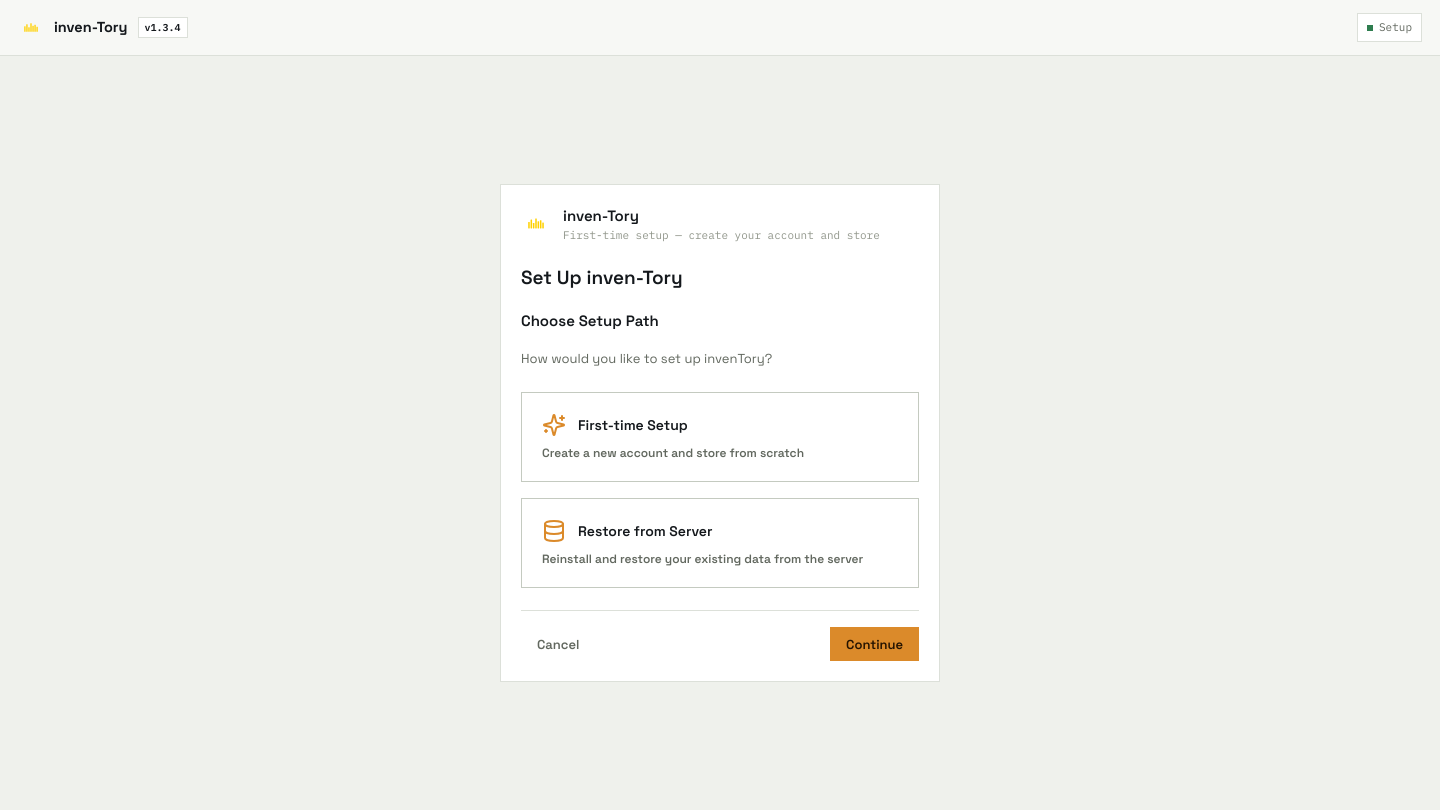
Test: GenesisWizard — Navigation and States › allows back navigation from restore to selection
The width and height of the screenshot is (1440, 810).
Click the text "Restore from Server". click: [645, 531]
box: [578,522,712,540]
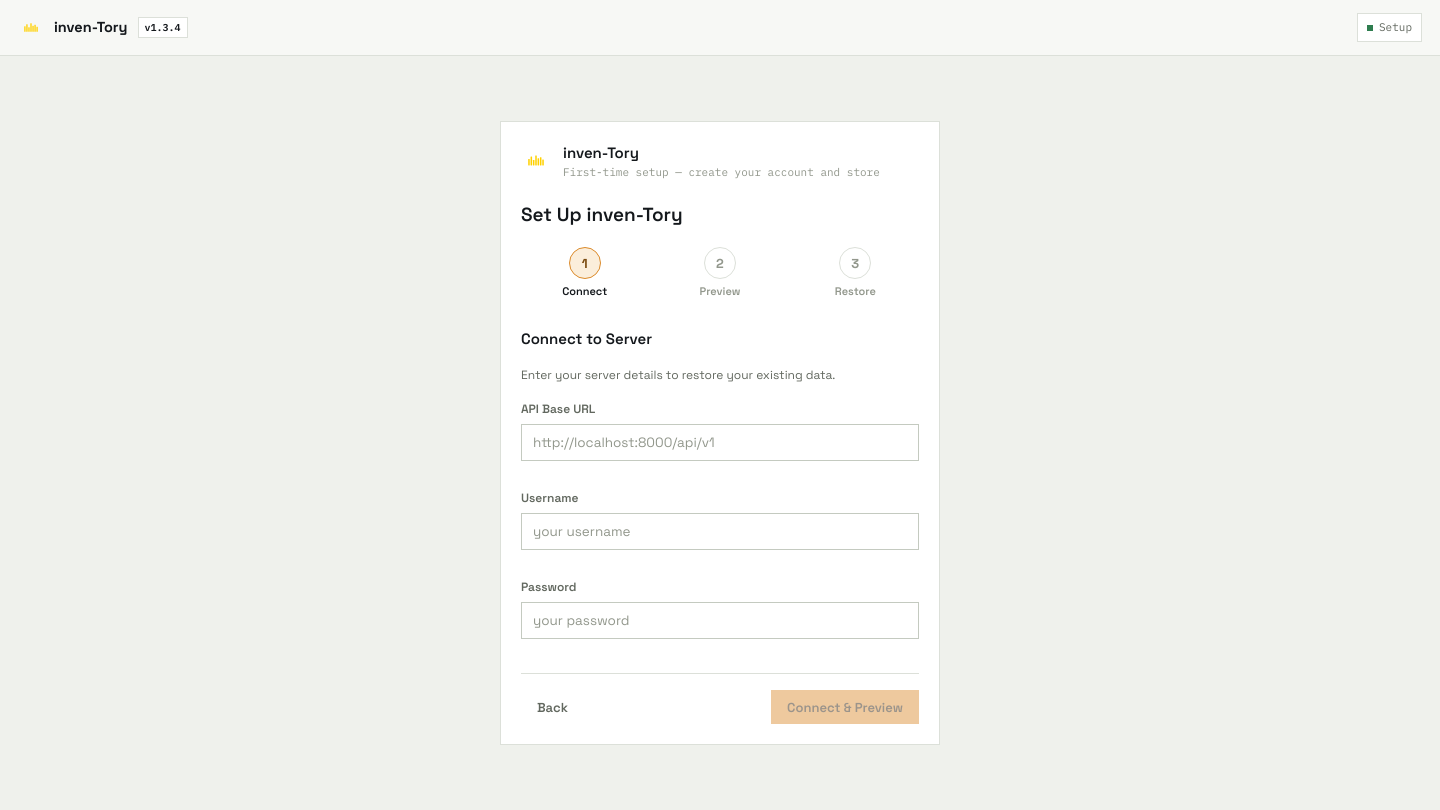
Expected: the heading "Connect to Server" is shown, [521,329,652,348]
Click the button "Back". click: [552, 707]
box: [521,690,584,724]
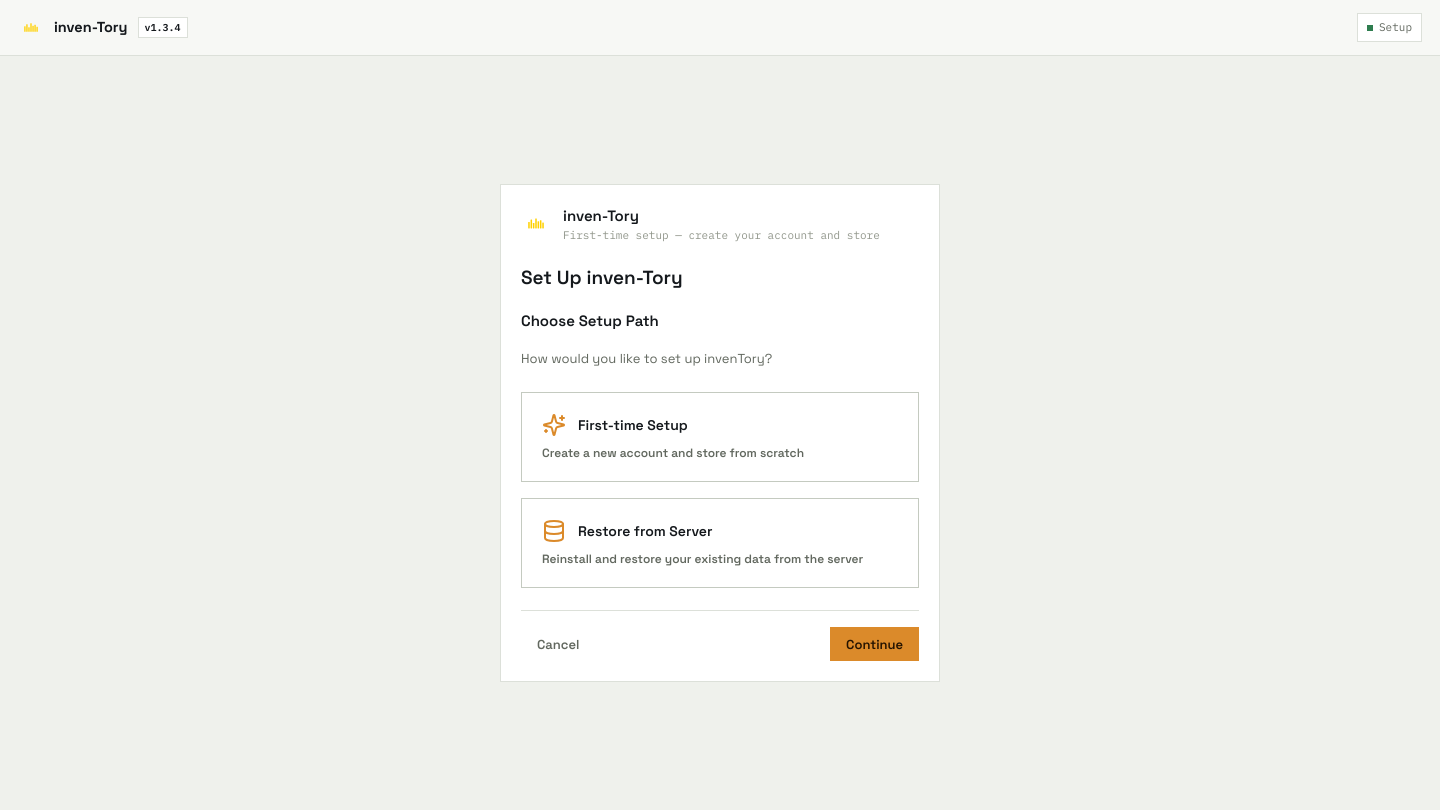
Expected: the heading "Choose Setup Path" is shown, [521,311,659,330]
